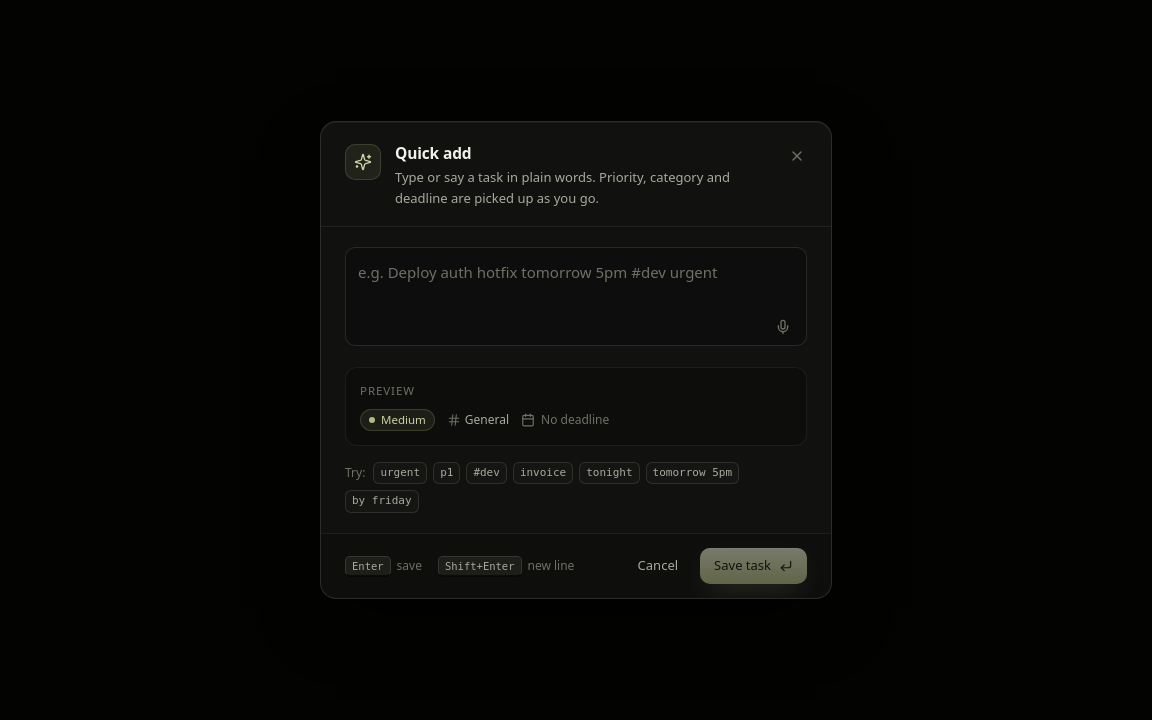
Quick add with voice › appends the spoken words to what was typed, and the preview updates
Type "Call the bank" into the text box with placeholder "e.g. Deploy auth hotfix tomorrow 5pm #dev urgent" at x=576, y=296, box x1=345 y1=247 x2=807 y2=346
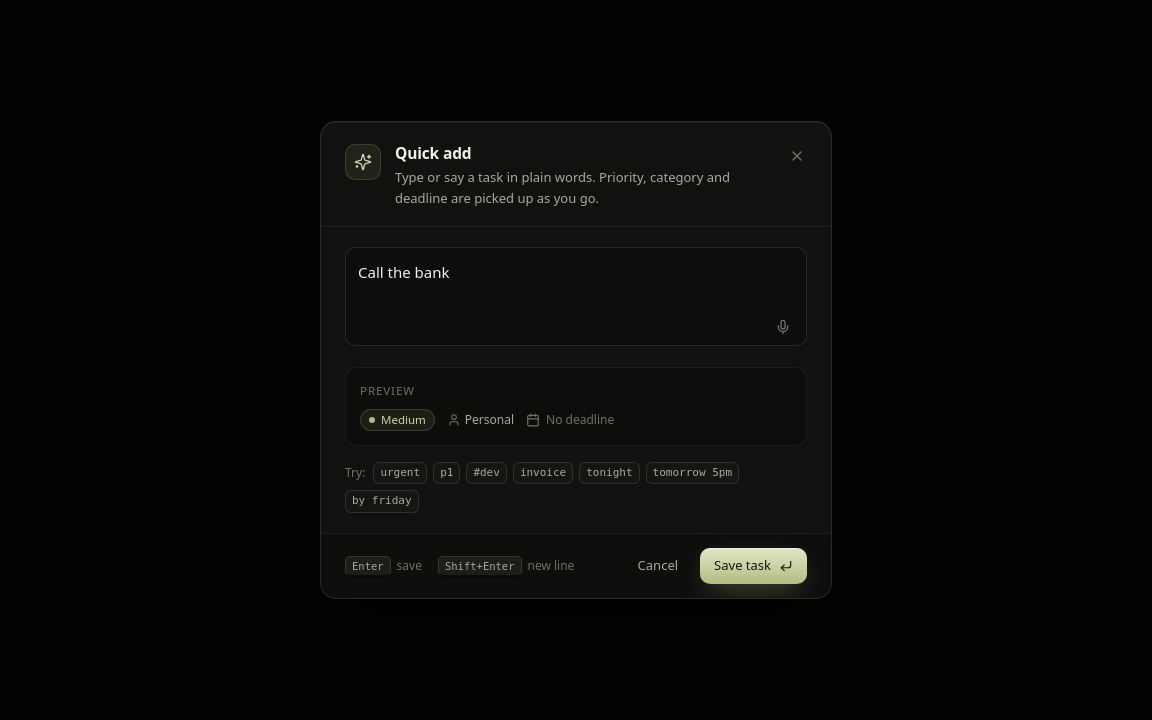
Click the button named "Speak instead of typing" at x=783, y=327, box x1=767 y1=311 x2=799 y2=343
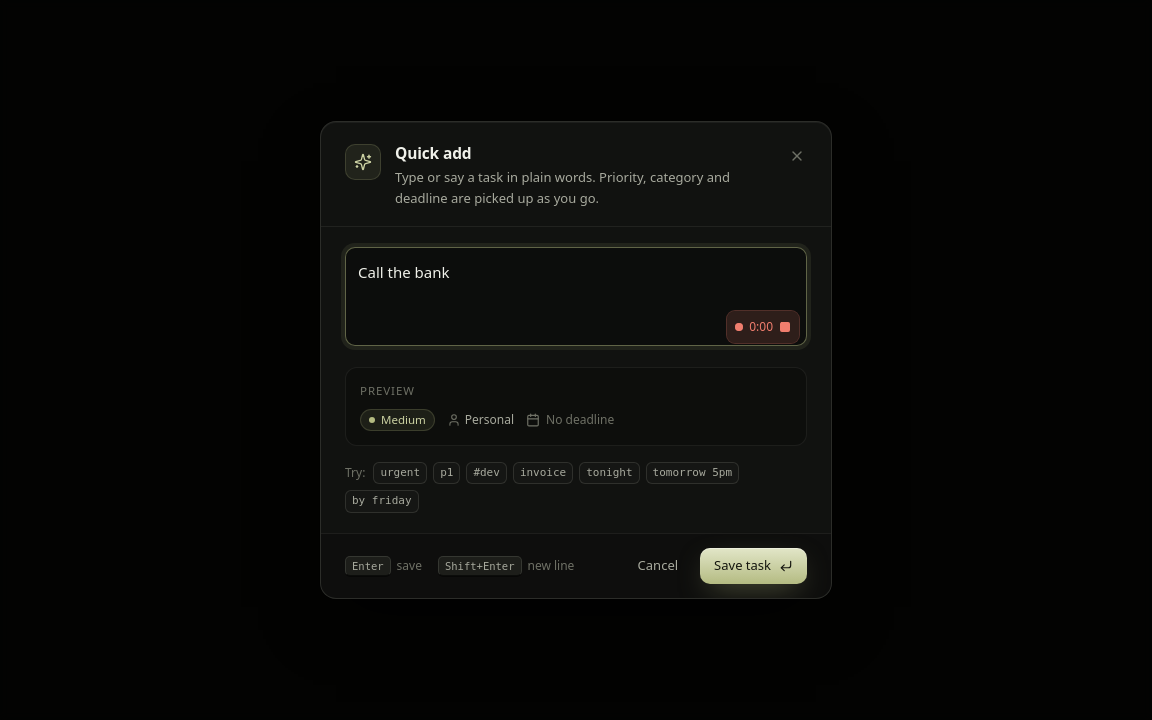
Click the button named "Stop and transcribe" at x=763, y=327, box x1=727 y1=311 x2=799 y2=343
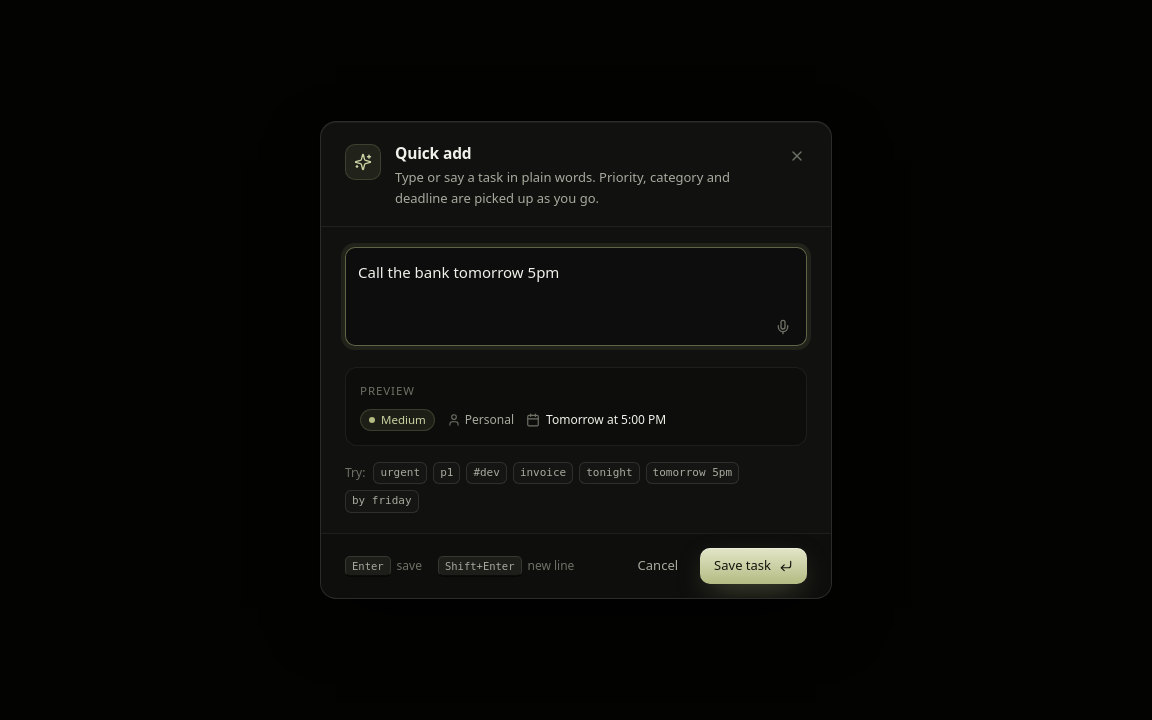
expect the text box with placeholder "e.g. Deploy auth hotfix tomorrow 5pm #dev urgent" holds "Call the bank tomorrow 5pm": met, box x1=345 y1=247 x2=807 y2=346
expect the text "Tomorrow at 5:00 PM" is shown: met, box x1=526 y1=411 x2=666 y2=429
